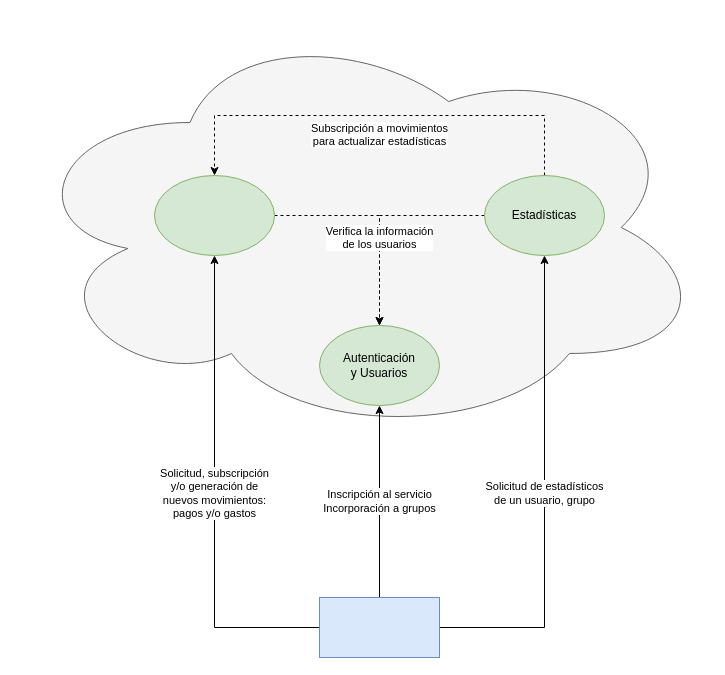
Image size: 725x675. Some labels were removed from this diagram. Each missing label, with the centre of its shape:
"Interfaces de Usuario" belongs at [379,627].
"Transacciones y Pagos" belongs at [214,215].
